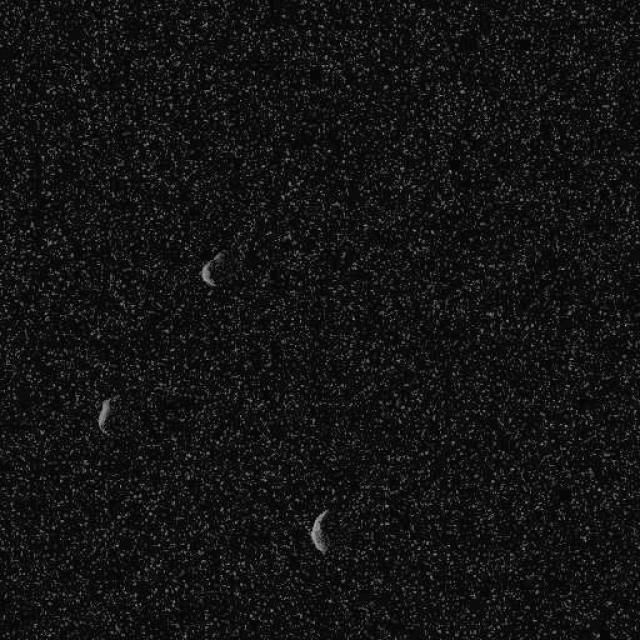D2: (198, 249, 228, 289), (309, 508, 330, 554), (96, 396, 112, 434)
